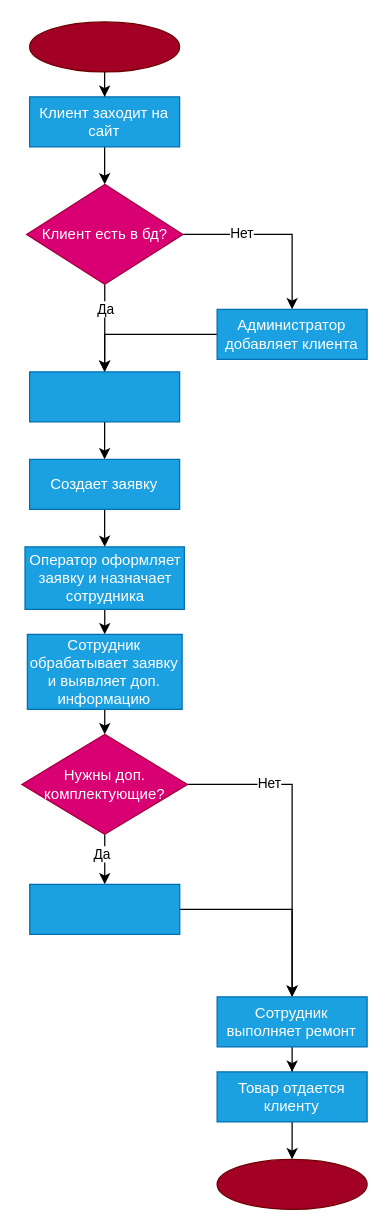
Some shapes in this 390 by 1231 pixel diagram are drawn without their labels. Each missing label, with the centre of its shape:
"Клиент авторизируется на сайте" goes at point 104,396.
"Конец" goes at point 291,1183.
"Начало" goes at point 104,46.
"Сотрудник заказывает комплектующие" goes at point 104,908.
